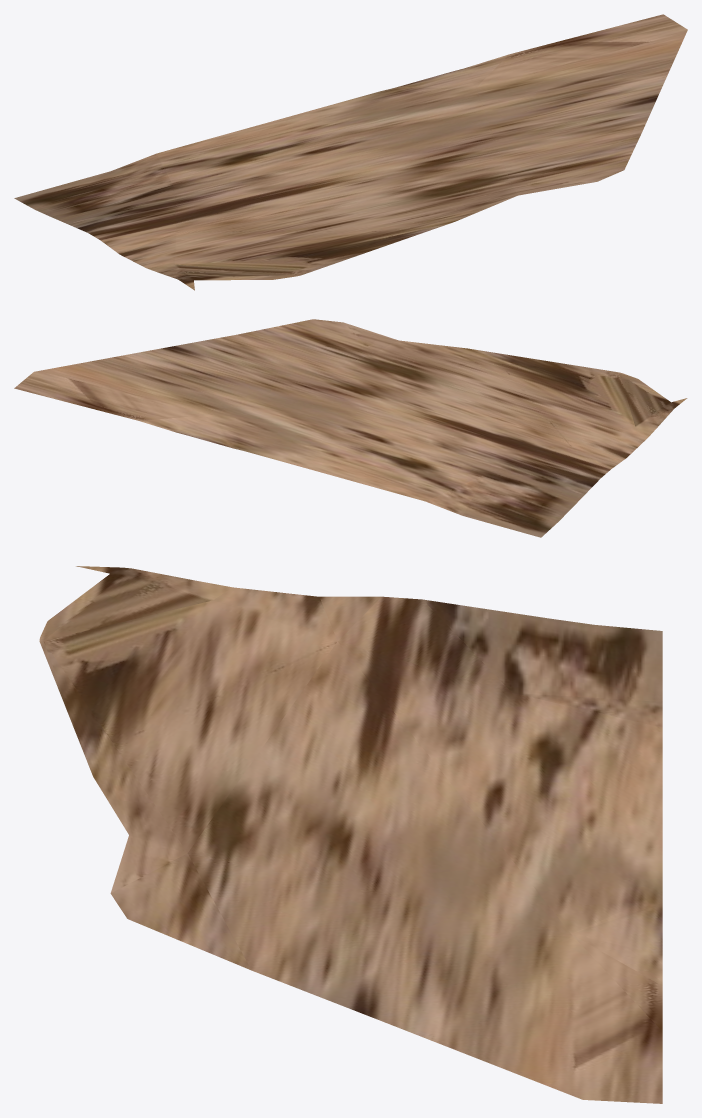
The picture shows the model from 3 angles, top to bottom: view 1: azimuth 30°, elevation 25°; view 2: azimuth 150°, elevation 25°; view 3: azimuth 270°, elevation 25°; orthographic projection. The views are drawn at different scales.
Size of the model in its own units: 4.18 by 0.2462 by 2.14.
Materials: 1 (1 with a texture image).
